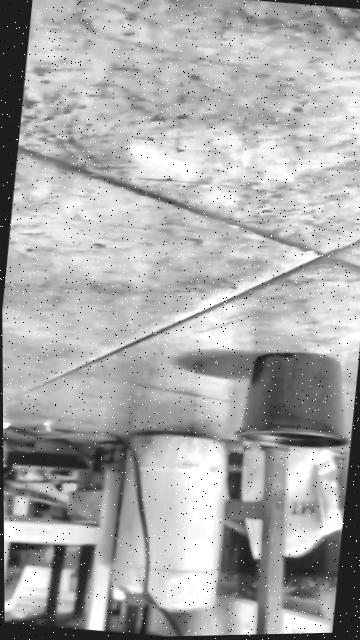pot: (234, 347, 359, 456)
